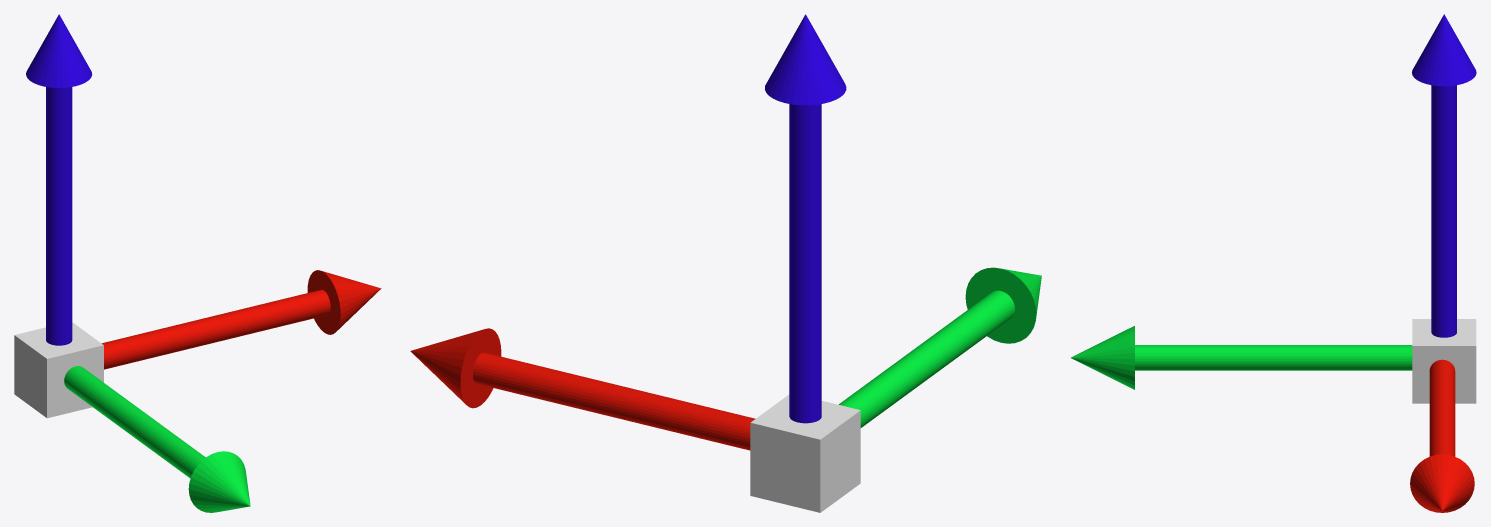
Rendered from gizmo.fbx.
3 renders of one model, left to right at view 1: azimuth 30°, elevation 25°; view 2: azimuth 150°, elevation 25°; view 3: azimuth 270°, elevation 25°, orthographic. The views are drawn at different scales.
Parts seen in each view (by area): view 1: z.002; view 2: z.002; view 3: z.002.
Part boxes in pixels (box(x1,y1,x2,y2)): z.002: box(14, 14, 381, 512); z.002: box(410, 14, 1041, 512); z.002: box(1070, 14, 1476, 512).
Size of the model in its own units: 361 by 380 by 372.
